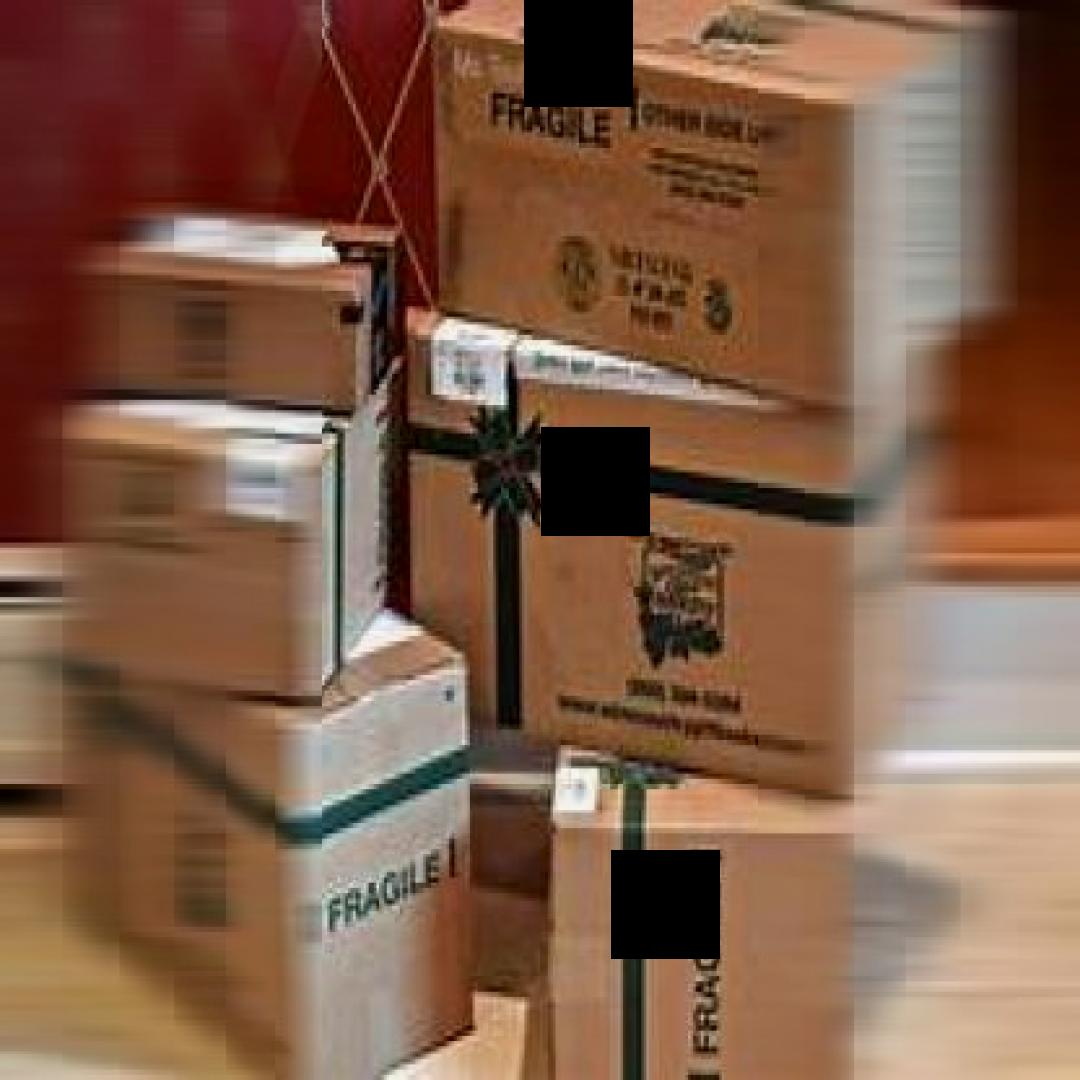package: (394, 304, 929, 816), (39, 488, 485, 1080), (430, 0, 994, 415), (68, 322, 402, 703), (550, 742, 860, 1080), (86, 205, 408, 423)
